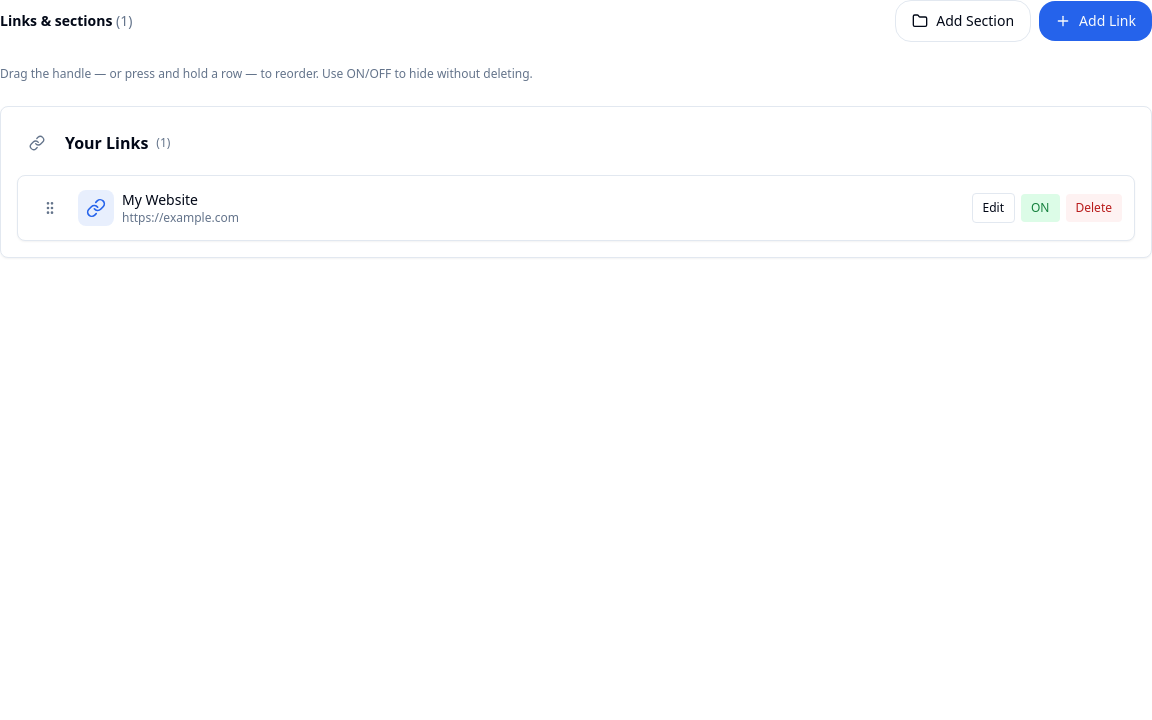
Test case: LinksManager add/edit modal › opens the same dialog pre-filled when editing a link
Click the button "Edit" at (993, 208), box [972,193,1015,223]
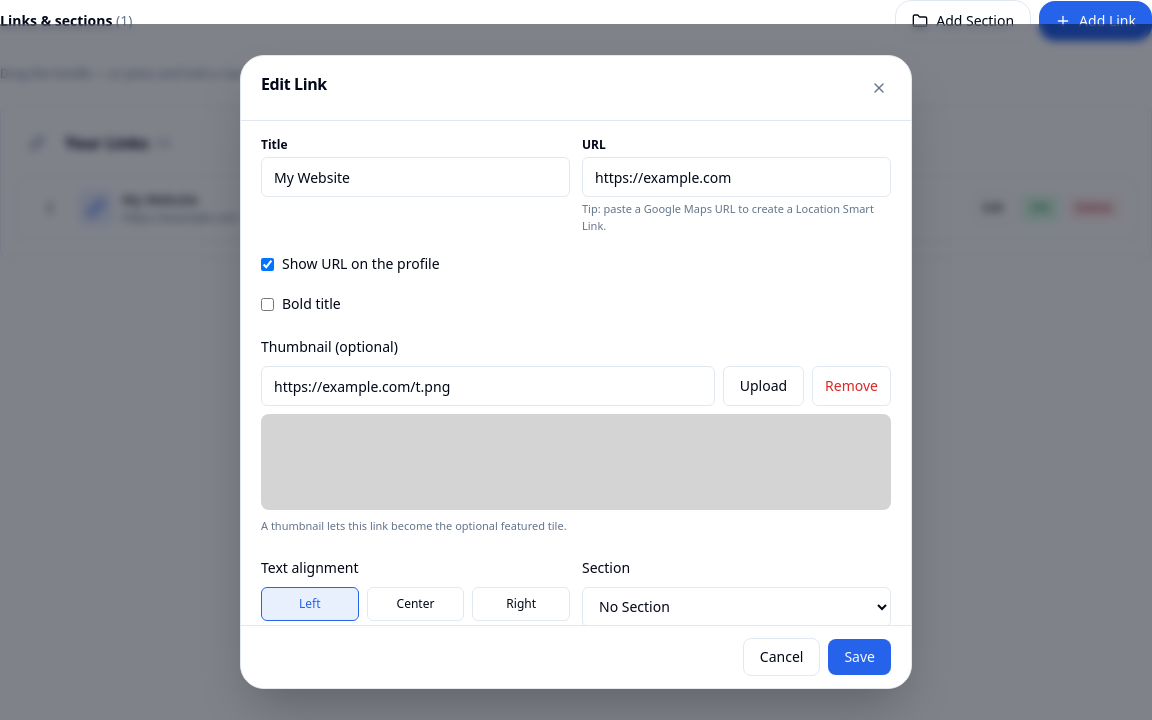
Expected: the field labelled "Title" holds "My Website", [261,157,570,197]
Expected: the field labelled "URL" holds "https://example.com", [582,157,891,197]
